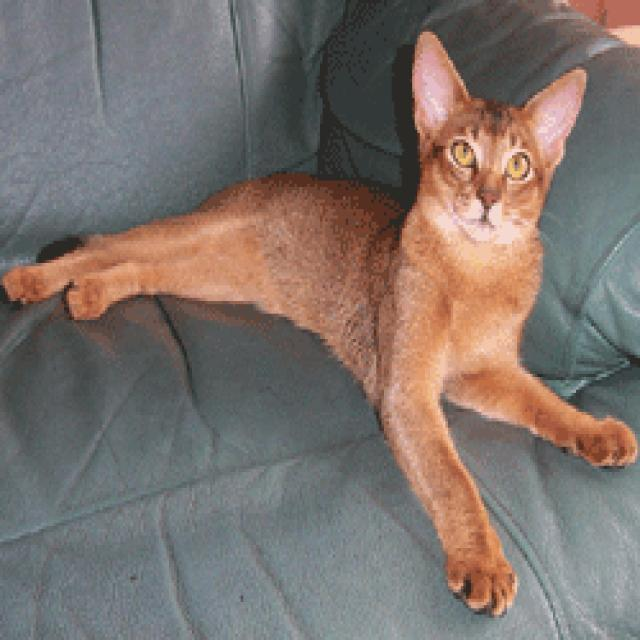Abyssinian: (408, 24, 592, 253)
